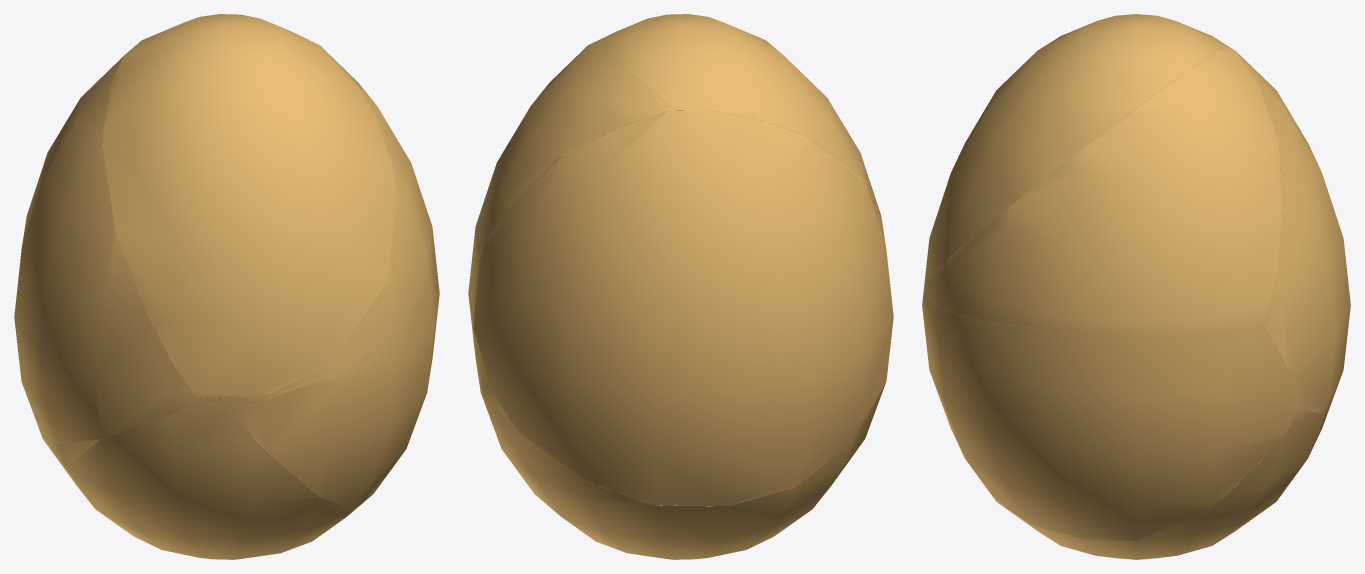
File: brokenEgg.fbx
The picture shows the model from 3 angles, left to right: view 1: azimuth 30°, elevation 25°; view 2: azimuth 150°, elevation 25°; view 3: azimuth 270°, elevation 25°; orthographic projection.
Visible parts, largest first — view 1: egg_cell.004, egg_cell.002, egg_cell.001, egg_cell, egg_cell.003; view 2: egg_cell.002, egg_cell.004, egg_cell.001, egg_cell.003, egg_cell; view 3: egg_cell.003, egg_cell, egg_cell.004, egg_cell.002, egg_cell.001.
Part boxes in pixels (box(x1,y1,x2,y2)): egg_cell.004: box(103, 14, 396, 400); egg_cell.002: box(14, 40, 199, 443); egg_cell.001: box(41, 401, 358, 559); egg_cell: box(229, 239, 439, 508); egg_cell.003: box(140, 27, 433, 408); egg_cell.002: box(473, 110, 893, 506); egg_cell.004: box(592, 14, 882, 225); egg_cell.001: box(484, 383, 885, 559); egg_cell.003: box(474, 43, 676, 268); egg_cell: box(468, 239, 489, 402); egg_cell.003: box(923, 46, 1282, 333); egg_cell: box(922, 295, 1297, 540); egg_cell.004: box(924, 14, 1227, 281); egg_cell.002: box(987, 36, 1350, 414); egg_cell.001: box(991, 408, 1328, 559).
Size of the model in its own units: 0.914 by 1.22 by 0.914.
